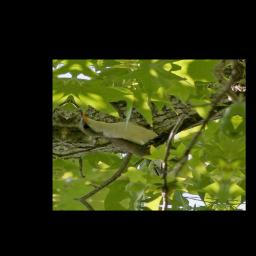Cuckoo: (68, 109, 187, 178)
